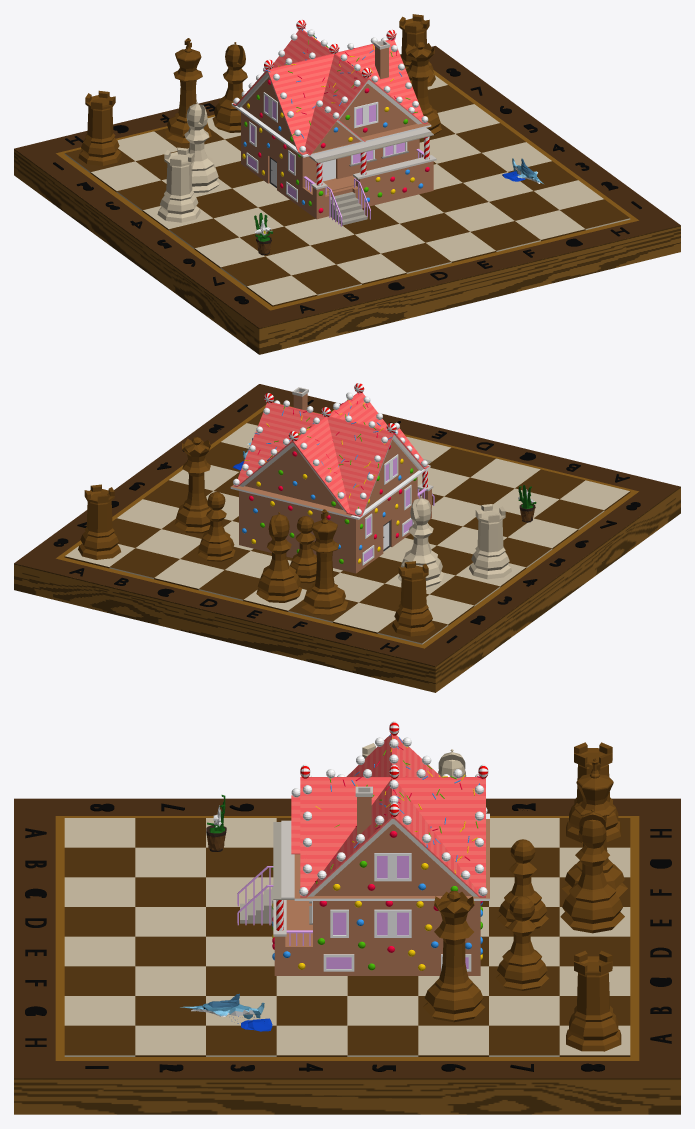
3 renders of one model, top to bottom at view 1: azimuth 30°, elevation 25°; view 2: azimuth 150°, elevation 25°; view 3: azimuth 270°, elevation 25°, orthographic. The views are drawn at different scales.
Parts seen in each view (by area): view 1: Cube.002, Cube.1203, OBJRANDOM_MONJA BLANCA; view 2: Cube.002, Cube.1203, OBJRANDOM_MONJA BLANCA; view 3: Cube.002, Cube.1203, ANIMAL_PEZ_ESPADA, OBJRANDOM_MONJA BLANCA.
Part boxes in pixels (left/top/right/bottom): Cube.002: left=14, top=14, right=680, bottom=354; Cube.1203: left=231, top=19, right=436, bottom=226; OBJRANDOM_MONJA BLANCA: left=254, top=213, right=272, bottom=255; Cube.002: left=14, top=384, right=680, bottom=692; Cube.1203: left=230, top=383, right=434, bottom=573; OBJRANDOM_MONJA BLANCA: left=518, top=485, right=536, bottom=522; Cube.002: left=14, top=742, right=680, bottom=1114; Cube.1203: left=237, top=721, right=489, bottom=975; ANIMAL_PEZ_ESPADA: left=180, top=993, right=272, bottom=1031; OBJRANDOM_MONJA BLANCA: left=206, top=795, right=226, bottom=851.
Bounding box in the file's own units: 3981 × 1485 × 4012.
37 materials, 3 textured.
